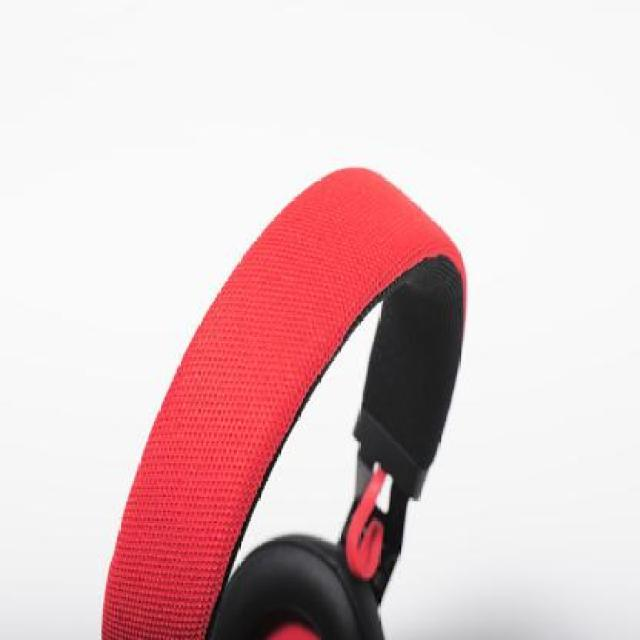earphone: (127, 100, 460, 640)
